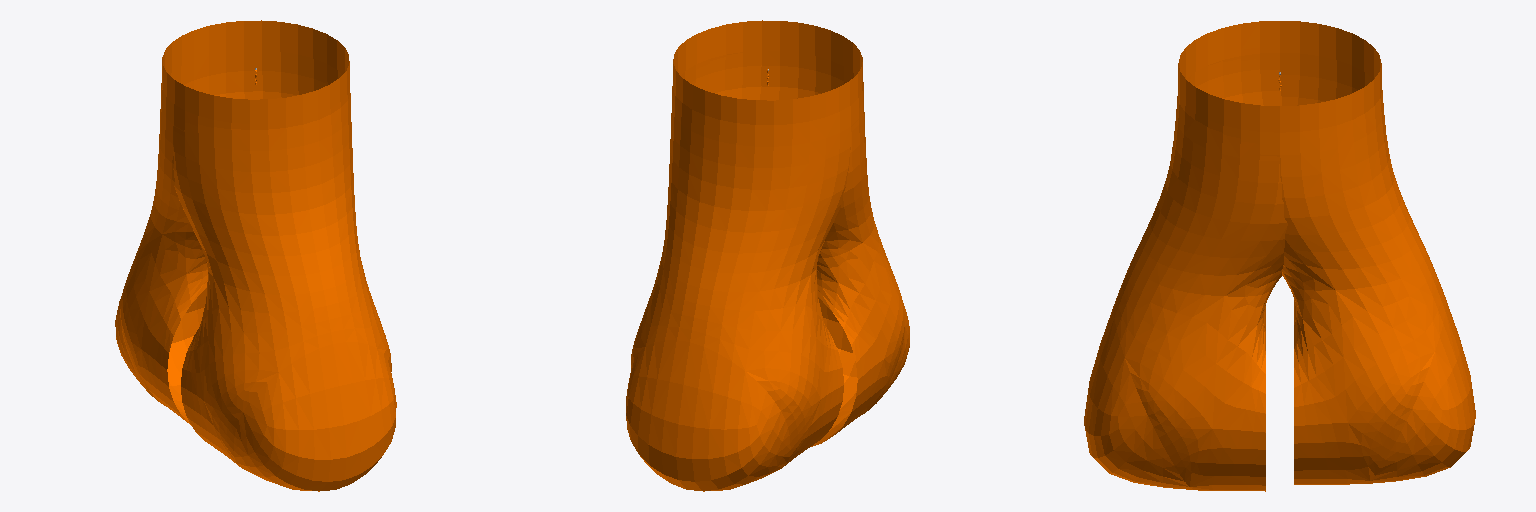
The robot description file, URDF, robot "kuka-lwr":
<?xml version="1.0" ?>
<robot name="kuka-lwr" xmlns:controller="http://playerstage.sourceforge.net/gazebo/xmlschema/#controller" xmlns:interface="http://playerstage.sourceforge.net/gazebo/xmlschema/#interface" xmlns:sensor="http://playerstage.sourceforge.net/gazebo/xmlschema/#sensor" xmlns:xacro="http://www.ros.org/wiki/xacro">
  <material name="DarkGrey">
    <color rgba="0.3 0.3 0.3 1.0"/>
  </material>
  <material name="Red">
    <color rgba="0.3 0.3 0.3 1.0"/>
  </material>
  <material name="Black">
    <color rgba="0 0 0 1.0"/>
  </material>
  <material name="Orange">
    <color rgba="1.0 0.487 0 1.0"/>
  </material>
  <material name="Silver">
    <color rgba="1.0 1.0 1.0 1.0"/>
  </material>
  <material name="Grey">
    <color rgba="0.7 0.7 0.7 1.0"/>
  </material>
  <material name="Blue">
    <color rgba="0.0 0.0 0.8 1.0"/>
  </material>
  <material name="HandGray">
    <color rgba="0.953 0.996 0.694 1.0"/>
  </material>
  <material name="SickBlue">
    <color rgba="0.3058 0.5921 0.7294 1.0"/>
  </material>
  <link name="world"/>
  <joint name="arm_world_joint" type="fixed">
    <origin rpy="0 0 0" xyz="0 0 0.01"/>
    <parent link="world"/>
    <child link="lwr_arm_base_link"/>
  </joint>
  <!--link name="world_link">
    <inertial>
      <mass value="50.0"/>
      <com xyz="0 0 0"/>
      <inertia ixx="0.01" ixy="0.00" ixz="0.00" iyy="0.01" iyz="0.00" izz="0.01"/>
    </inertial>
    <visual>
      <origin rpy="0 0 0" xyz="0 0 0.95"/>
      <geometry>
        <box size="0.5 0.5 0.05"/>
      </geometry>
    </visual>
    <collision>
      <origin rpy="0 0 0" xyz="0 0 0.50"/>
      <geometry>
        <box size="0.5 0.5 0.05"/>
      </geometry>
    </collision>
  </link-->
  <!-- First (shoulder) element of the arm. Fixed to its parent. -->
  <!--joint name="world_lwr_arm_base_joint" type="fixed">
    <origin rpy="0 0 0" xyz="0 0 1.1"/>
    <parent link="world_link"/>
    <child link="lwr_arm_base_link"/>
  </joint-->
  <link name="lwr_arm_base_link">
    <inertial>
      <mass value="1.2"/>
      <origin rpy="0 0 0" xyz="0 0 0.055"/>
      <inertia ixx="0.00229" ixy="0" ixz="0" iyy="0.00216" iyz="0" izz="0.00229"/>
    </inertial>
    <visual>
      <origin rpy="0 0 0" xyz="0 0 0"/>
      <geometry>
        <mesh filename="package://./meshes/arm_base.dae" scale="100 100 100"/>
      </geometry>
      <material name="Orange"/>
    </visual>
    <collision>
      <origin rpy="0 0 0" xyz="0 0 0.01"/>
      <geometry>
        <mesh filename="package://./meshes/convex/arm_base_convex.stl" scale="0.9 0.9 0.9"/>
      </geometry>
    </collision>
  </link>
  <gazebo reference="lwr_arm_base_link">
    <!--<material value="kuka-lwr.material"/>-->
  </gazebo>
  <joint name="lwr_arm_0_joint" type="revolute">
    <origin rpy="0 0 0" xyz="0 0 0.11"/>
    <axis xyz="0 0 1"/>
    <limit effort="204" lower="-2.96705972839" upper="2.96705972839" velocity="1.91986217719"/>
    <safety_controller k_position="100" k_velocity="2" soft_lower_limit="-2.93215314335" soft_upper_limit="2.93215314335"/>
    <dynamics damping="5.0"/>
    <parent link="lwr_arm_base_link"/>
    <child link="lwr_arm_1_link"/>
  </joint>
  <gazebo reference="lwr_arm_0_joint">
    <provideFeedback>1</provideFeedback>
    <implicitSpringDamper>1</implicitSpringDamper>
  </gazebo>
  <transmission name="lwr_arm_0_trans" type="SimpleTransmission">
    <actuator name="lwr_arm_0_motor"/>
    <joint name="lwr_arm_0_joint"/>
    <mechanicalReduction>1.0</mechanicalReduction>
  </transmission>
  <link name="lwr_arm_1_link">
    <inertial>
      <mass value="2.0"/>
      <origin rpy="0 0 0" xyz="0 0 0.130"/>
      <inertia ixx="0.0136666666667" ixy="0" ixz="0" iyy="0.0118666666667" iyz="0" izz="0.003"/>
    </inertial>
    <visual>
      <origin rpy="0 0 3.14159265359" xyz="0 0 0"/>
      <geometry>
        <mesh filename="package://./meshes/arm_segment_a.dae" scale="100 100 100"/>
      </geometry>
      <material name="Orange"/>
    </visual>
    <collision>
      <origin rpy="0 0 3.14159265359" xyz="0 0 0"/>
      <geometry>
        <mesh filename="package://./meshes/convex/arm_segment_a_convex.stl" scale="1.0 1.0 1.0"/>
      </geometry>
    </collision>
  </link>
  <gazebo reference="lwr_arm_1_link">
    <!--<material value="kuka-lwr.material"/>-->
  </gazebo>
  <joint name="lwr_arm_1_joint" type="revolute">
    <origin rpy="0 0 0" xyz="0 0 0.20"/>
    <axis xyz="0 -1 0"/>
    <limit effort="306" lower="-2.09439510239" upper="2.09439510239" velocity="1.91986217719"/>
    <safety_controller k_position="100" k_velocity="2" soft_lower_limit="-2.05948851735" soft_upper_limit="2.05948851735"/>
    <dynamics damping="5.0"/>
    <parent link="lwr_arm_1_link"/>
    <child link="lwr_arm_2_link"/>
  </joint>
  <gazebo reference="lwr_arm_1_joint">
    <provideFeedback>1</provideFeedback>
    <implicitSpringDamper>1</implicitSpringDamper>
  </gazebo>
  <transmission name="lwr_arm_1_trans" type="pr2_mechanism_model/SimpleTransmission">
    <actuator name="lwr_arm_1_motor"/>
    <joint name="lwr_arm_1_joint"/>
    <mechanicalReduction>1.0</mechanicalReduction>
  </transmission>
  <link name="lwr_arm_2_link">
    <inertial>
      <mass value="2.0"/>
      <origin rpy="0 0 0" xyz="0 -0.06 0.07"/>
      <inertia ixx="0.0136666666667" ixy="0" ixz="0" iyy="0.0118666666667" iyz="0" izz="0.003"/>
    </inertial>
    <visual>
      <origin rpy="3.14159265359 0 3.14159265359" xyz="0 0 0.2"/>
      <geometry>
        <mesh filename="package://./meshes/arm_segment_b.dae" scale="100 100 100"/>
      </geometry>
      <material name="Orange"/>
    </visual>
    <collision>
      <origin rpy="3.14159265359 0 3.14159265359" xyz="0 0 0.2"/>
      <geometry>
        <mesh filename="package://./meshes/convex/arm_segment_b_convex.stl" scale="1.0 1.0 1.0"/>
      </geometry>
    </collision>
  </link>
  <gazebo reference="lwr_arm_2_link">
    <!--<material value="kuka-lwr.material"/>-->
  </gazebo>
  <joint name="lwr_arm_2_joint" type="revolute">
    <origin rpy="0 0 0" xyz="0 0 0.20"/>
    <axis xyz="0 0 1"/>
    <limit effort="204" lower="-2.96705972839" upper="2.96705972839" velocity="2.26892802759"/>
    <safety_controller k_position="100" k_velocity="2" soft_lower_limit="-2.93215314335" soft_upper_limit="2.93215314335"/>
    <dynamics damping="3.0"/>
    <parent link="lwr_arm_2_link"/>
    <child link="lwr_arm_3_link"/>
  </joint>
  <gazebo reference="lwr_arm_2_joint">
    <provideFeedback>1</provideFeedback>
    <implicitSpringDamper>1</implicitSpringDamper>
  </gazebo>
  <transmission name="lwr_arm_2_trans" type="SimpleTransmission">
    <actuator name="lwr_arm_2_motor"/>
    <joint name="lwr_arm_2_joint"/>
    <mechanicalReduction>1.0</mechanicalReduction>
  </transmission>
  <link name="lwr_arm_3_link">
    <inertial>
      <mass value="2.0"/>
      <origin rpy="0 0 0" xyz="0 -0.06 0.130"/>
      <inertia ixx="0.0136666666667" ixy="0" ixz="0" iyy="0.0118666666667" iyz="0" izz="0.003"/>
    </inertial>
    <visual>
      <origin rpy="0 0 0" xyz="0 0 0"/>
      <geometry>
        <mesh filename="package://./meshes/arm_segment_a.dae" scale="100 100 100"/>
      </geometry>
      <material name="Orange"/>
    </visual>
    <collision>
      <origin rpy="0 0 0" xyz="0 0 0"/>
      <geometry>
        <mesh filename="package://./meshes/convex/arm_segment_a_convex.stl" scale="1.0 1.0 1.0"/>
      </geometry>
    </collision>
  </link>
  <gazebo reference="lwr_arm_3_link">
    <!--<material value="kuka-lwr.material"/>-->
  </gazebo>
  <joint name="lwr_arm_3_joint" type="revolute">
    <origin rpy="0 0 0" xyz="0 0 0.20"/>
    <axis xyz="0 1 0"/>
    <limit effort="306" lower="-2.09439510239" upper="2.09439510239" velocity="2.26892802759"/>
    <safety_controller k_position="100" k_velocity="2" soft_lower_limit="-2.05948851735" soft_upper_limit="2.05948851735"/>
    <dynamics damping="3.0"/>
    <parent link="lwr_arm_3_link"/>
    <child link="lwr_arm_4_link"/>
  </joint>
  <gazebo reference="lwr_arm_3_joint">
    <provideFeedback>1</provideFeedback>
    <implicitSpringDamper>1</implicitSpringDamper>
  </gazebo>
  <transmission name="lwr_arm_3_trans" type="SimpleTransmission">
    <actuator name="lwr_arm_3_motor"/>
    <joint name="lwr_arm_3_joint"/>
    <mechanicalReduction>1.0</mechanicalReduction>
  </transmission>
  <link name="lwr_arm_4_link">
    <inertial>
      <mass value="2.0"/>
      <origin rpy="0 0 0" xyz="0 0.06 0.07"/>
      <inertia ixx="0.0136666666667" ixy="0" ixz="0" iyy="0.0118666666667" iyz="0" izz="0.003"/>
    </inertial>
    <visual>
      <origin rpy="0 3.14159265359 3.14159265359" xyz="0 0 0.2"/>
      <geometry>
        <mesh filename="package://./meshes/arm_segment_b.dae" scale="100 100 100"/>
      </geometry>
      <material name="Orange"/>
    </visual>
    <collision>
      <origin rpy="0 3.14159265359 3.14159265359" xyz="0 0 0.2"/>
      <geometry>
        <mesh filename="package://./meshes/convex/arm_segment_b_convex.stl" scale="1.0 1.0 1.0"/>
      </geometry>
    </collision>
  </link>
  <gazebo reference="lwr_arm_4_link">
    <!--<material value="kuka-lwr.material"/>-->
  </gazebo>
  <joint name="lwr_arm_4_joint" type="revolute">
    <origin rpy="0 0 0" xyz="0 0 0.20"/>
    <axis xyz="0 0 1"/>
    <limit effort="204" lower="-2.96705972839" upper="2.96705972839" velocity="2.26892802759"/>
    <safety_controller k_position="100" k_velocity="2" soft_lower_limit="-2.93215314335" soft_upper_limit="2.93215314335"/>
    <dynamics damping="1.0"/>
    <parent link="lwr_arm_4_link"/>
    <child link="lwr_arm_5_link"/>
  </joint>
  <gazebo reference="lwr_arm_4_joint">
    <provideFeedback>1</provideFeedback>
    <implicitSpringDamper>1</implicitSpringDamper>
  </gazebo>
  <transmission name="lwr_arm_4_trans" type="SimpleTransmission">
    <actuator name="lwr_arm_4_motor"/>
    <joint name="lwr_arm_4_joint"/>
    <mechanicalReduction>1.0</mechanicalReduction>
  </transmission>
  <link name="lwr_arm_5_link">
    <inertial>
      <mass value="2.0"/>
      <origin rpy="0 0 0" xyz="0 0 0.124"/>
      <inertia ixx="0.0126506666667" ixy="0" ixz="0" iyy="0.0108506666667" iyz="0" izz="0.003"/>
    </inertial>
    <visual>
      <origin rpy="0 0 3.14159265359" xyz="0 0 0"/>
      <geometry name="lwr_arm_5_geom">
        <mesh filename="package://./meshes/arm_segment_last.dae" scale="100 100 100"/>
      </geometry>
      <material name="Orange"/>
    </visual>
    <collision>
      <origin rpy="0 0 3.14159265359" xyz="0 0 0"/>
      <geometry>
        <mesh filename="package://./meshes/convex/arm_segment_last_convex.stl" scale="1.0 1.0 1.0"/>
      </geometry>
    </collision>
  </link>
  <gazebo reference="lwr_arm_5_link">
    <!--<material value="kuka-lwr.material"/>-->
  </gazebo>
  <joint name="lwr_arm_5_joint" type="revolute">
    <origin rpy="0 0 0" xyz="0 0 0.19"/>
    <axis xyz="0 -1 0"/>
    <limit effort="306" lower="-2.09439510239" upper="2.09439510239" velocity="3.14159265359"/>
    <safety_controller k_position="100" k_velocity="2" soft_lower_limit="-2.05948851735" soft_upper_limit="2.05948851735"/>
    <dynamics damping="1.0"/>
    <parent link="lwr_arm_5_link"/>
    <child link="lwr_arm_6_link"/>
  </joint>
  <gazebo reference="lwr_arm_5_joint">
    <provideFeedback>1</provideFeedback>
    <implicitSpringDamper>1</implicitSpringDamper>
  </gazebo>
  <transmission name="lwr_arm_5_trans" type="SimpleTransmission">
    <actuator name="lwr_arm_5_motor"/>
    <joint name="lwr_arm_5_joint"/>
    <mechanicalReduction>1.0</mechanicalReduction>
  </transmission>
  <link name="lwr_arm_6_link">
    <inertial>
      <mass value="1.0"/>
      <origin rpy="0 0 0" xyz="0 0 0.0"/>
      <inertia ixx="0.00260416666667" ixy="0" ixz="0" iyy="0.00260416666667" iyz="0" izz="0.00260416666667"/>
    </inertial>
    <visual>
      <origin rpy="0 0 3.14159265359" xyz="0 0 0"/>
      <geometry>
        <mesh filename="package://./meshes/arm_wrist.dae" scale="100 100 100"/>
      </geometry>
      <material name="Grey"/>
    </visual>
    <collision>
      <origin rpy="0 0 3.14159265359" xyz="0 0 0"/>
      <geometry>
        <mesh filename="package://./meshes/convex/arm_wrist_convex.stl" scale="1.0 1.0 1.0"/>
      </geometry>
    </collision>
  </link>
  <gazebo reference="lwr_arm_6_link">
    <!--<material value="kuka-lwr.material"/>-->
  </gazebo>
  <joint name="lwr_arm_6_joint" type="revolute">
    <origin rpy="0 0 0" xyz="0 0 0.078"/>
    <axis xyz="0 0 1"/>
    <limit effort="204" lower="-2.96705972839" upper="2.96705972839" velocity="3.14159265359"/>
    <safety_controller k_position="100" k_velocity="2" soft_lower_limit="-2.93215314335" soft_upper_limit="2.93215314335"/>
    <dynamics damping="1.0"/>
    <parent link="lwr_arm_6_link"/>
    <child link="lwr_arm_7_link"/>
  </joint>
  <gazebo reference="lwr_arm_6_joint">
    <provideFeedback>1</provideFeedback>
    <implicitSpringDamper>1</implicitSpringDamper>
  </gazebo>
  <transmission name="lwr_arm_6_trans" type="SimpleTransmission">
    <actuator name="lwr_arm_6_motor"/>
    <joint name="lwr_arm_6_joint"/>
    <mechanicalReduction>1.0</mechanicalReduction>
  </transmission>
  <link name="lwr_arm_7_link">
    <inertial>
      <mass value="0.2"/>
      <origin xyz="0 0 0"/>
      <inertia ixx="6.66666666667e-05" ixy="0" ixz="0" iyy="6.66666666667e-05" iyz="0" izz="0.00012"/>
    </inertial>
    <visual>
      <origin rpy="0 0 0" xyz="0 0 0"/>
      <geometry>
        <mesh filename="package://./meshes/arm_flanche.dae" scale="100 100 100"/>
      </geometry>
      <material name="Grey"/>
    </visual>
    <collision>
      <origin rpy="0 0 0" xyz="0 0 0"/>
      <geometry>
        <!--mesh filename="package://./meshes/convex/arm_flanche_convex.stl" scale="1.0 1.0 1.0"/-->
        <mesh filename="package://./meshes/arm_flanche.dae" scale="100 100 100"/>
      </geometry>
      <surface>
        <friction>
          <ode>
            <mu>0.01</mu>
            <mu2>0.01</mu2>
          </ode>
        </friction>
      </surface>
    </collision>
  </link>
  <gazebo reference="lwr_arm_7_link">
    <!--<material value="kuka-lwr.material"/>-->
  </gazebo>
  <!--joint name="lwr_arm_hand_fixed_joint" type="fixed">
    <parent link="lwr_arm_7_link"/>
    <child link="lwr_tool_mount"/>
  </joint>
  <link name="lwr_tool_mount"/-->
  <!--xacro:lwr_arm_gazebo_controller namespace="" prefix="lwr" port="49938"/-->
</robot>

--- Facts derived from the render (not from the file) ---
3 views of the same robot in one strip: view 1: azimuth 30°, elevation 25°; view 2: azimuth 150°, elevation 25°; view 3: azimuth 270°, elevation 25° (orthographic).
Robot: kuka-lwr — 9 links, 8 joints (7 revolute, 1 fixed); root link world; default pose: every joint at zero.
Links seen in each view (by area): view 1: lwr_arm_2_link, lwr_arm_4_link; view 2: lwr_arm_4_link, lwr_arm_2_link; view 3: lwr_arm_4_link, lwr_arm_2_link.
Boxes of the visible links, left/top/right/bottom form: lwr_arm_2_link: left=162, top=26, right=396, bottom=491; lwr_arm_4_link: left=115, top=20, right=350, bottom=425; lwr_arm_4_link: left=626, top=20, right=863, bottom=491; lwr_arm_2_link: left=673, top=26, right=909, bottom=446; lwr_arm_4_link: left=1178, top=21, right=1475, bottom=484; lwr_arm_2_link: left=1084, top=27, right=1381, bottom=491.
Size in the robot's own frame: 12.4 by 23.19 by 27.3 metres.
8 mesh visuals loaded from 6 distinct referenced files (6 Collada DAE).